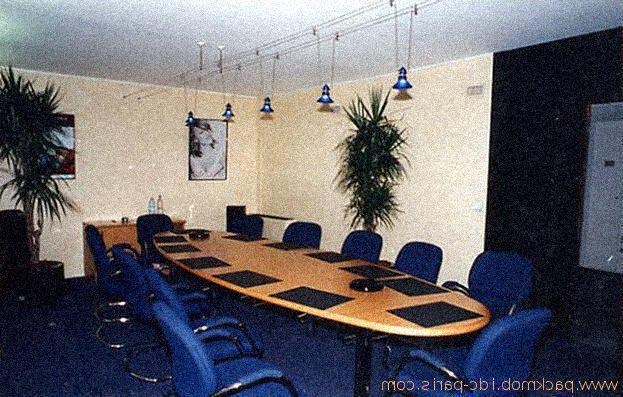Matera: (12, 78, 67, 308), (338, 86, 408, 237)
